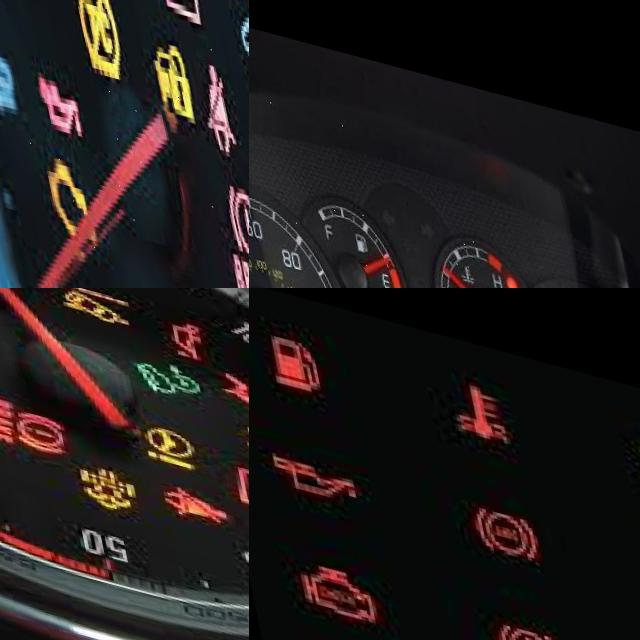Electronic Power Steering: (128, 401, 187, 453)
High Engine Coolant Temperature: (435, 357, 511, 436)
Seat Belt: (188, 35, 227, 130), (150, 462, 219, 514)
